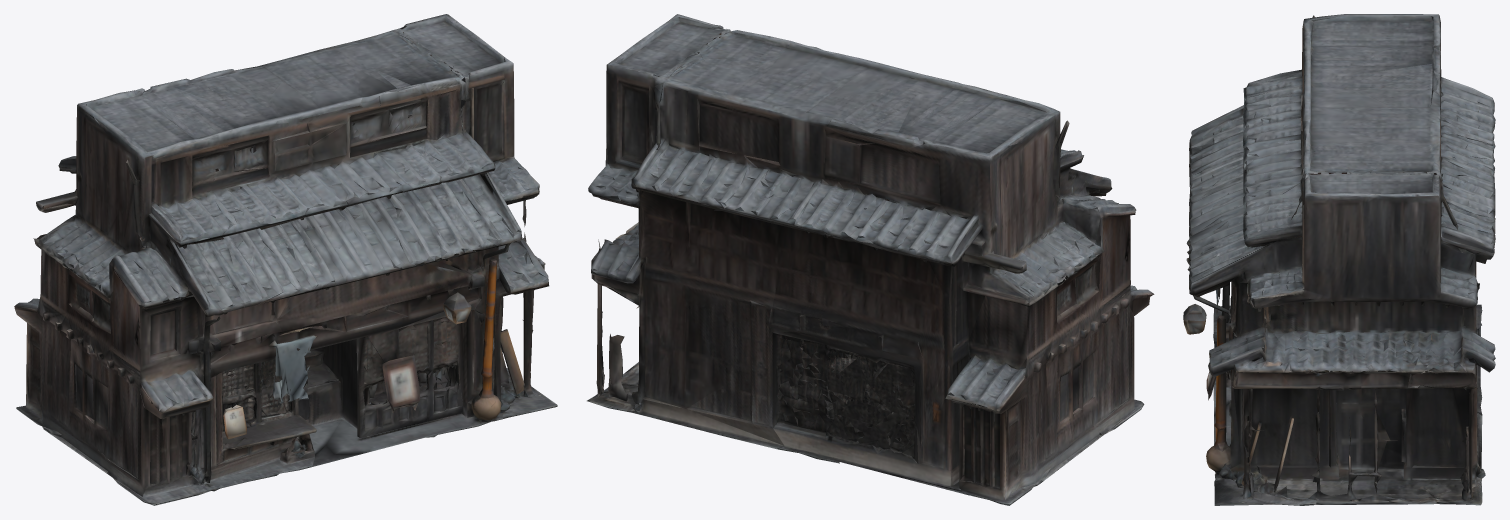
File: machiya.glb
3 renders of one model, left to right at view 1: azimuth 30°, elevation 25°; view 2: azimuth 150°, elevation 25°; view 3: azimuth 270°, elevation 25°, orthographic. The views are drawn at different scales.
Visible parts, largest first — view 1: output_unwrapped; view 2: output_unwrapped; view 3: output_unwrapped.
Boxes of the visible parts, box(x1,y1,x2,y2) form: output_unwrapped: box(14, 14, 557, 505); output_unwrapped: box(587, 14, 1154, 505); output_unwrapped: box(1183, 14, 1495, 505).
Bounding box in the file's own units: 6.65 × 4.8 × 4.34.
1 material, 1 textured.
